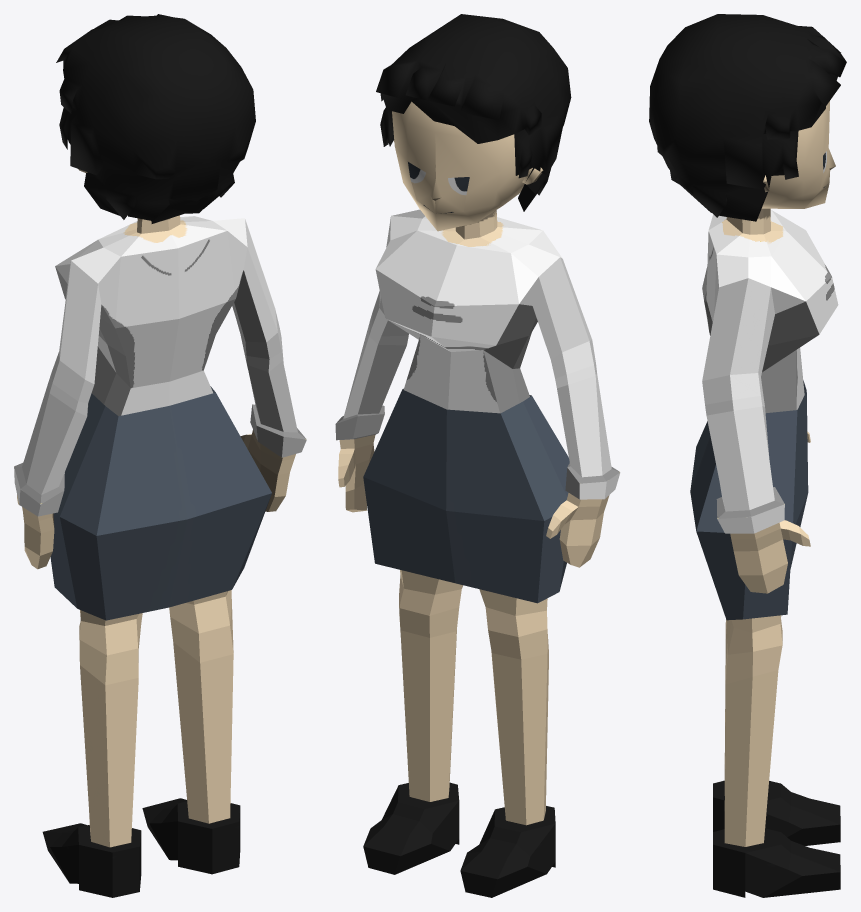
File: F SHORT HAIR.glb
The picture shows the model from 3 angles, left to right: view 1: azimuth 30°, elevation 25°; view 2: azimuth 150°, elevation 25°; view 3: azimuth 270°, elevation 25°; orthographic projection. The views are drawn at different scales.
Parts seen in each view (by area): view 1: WOMEN OFFICE, SHORT HAIR; view 2: WOMEN OFFICE, SHORT HAIR, WOMEN HEAD; view 3: WOMEN OFFICE, SHORT HAIR, WOMEN HEAD.
Boxes of the visible parts, box(x1,y1,x2,y2) form: WOMEN OFFICE: box(14, 215, 306, 897); SHORT HAIR: box(56, 14, 255, 223); WOMEN OFFICE: box(335, 209, 620, 897); SHORT HAIR: box(376, 14, 571, 211); WOMEN HEAD: box(392, 101, 524, 231); WOMEN OFFICE: box(690, 208, 840, 897); SHORT HAIR: box(649, 14, 846, 221); WOMEN HEAD: box(761, 101, 835, 208).
Bounding box in the file's own units: 3.07 × 9.07 × 1.95.
4 materials, 4 textured.
